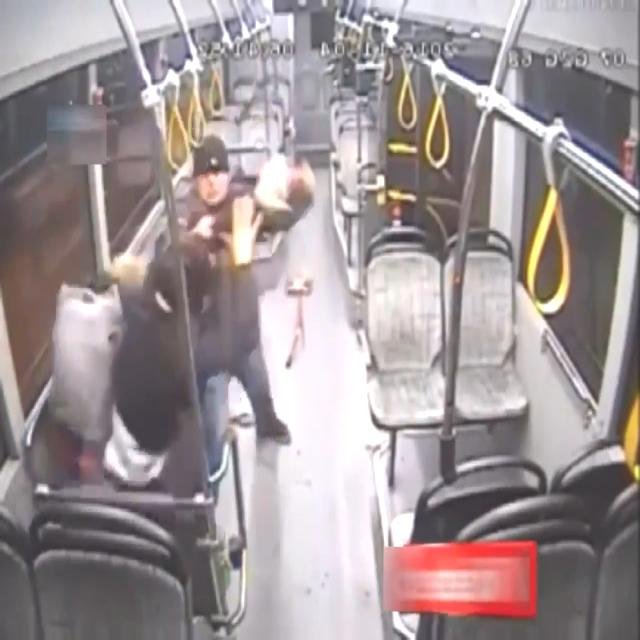fight: (102, 131, 316, 499)
